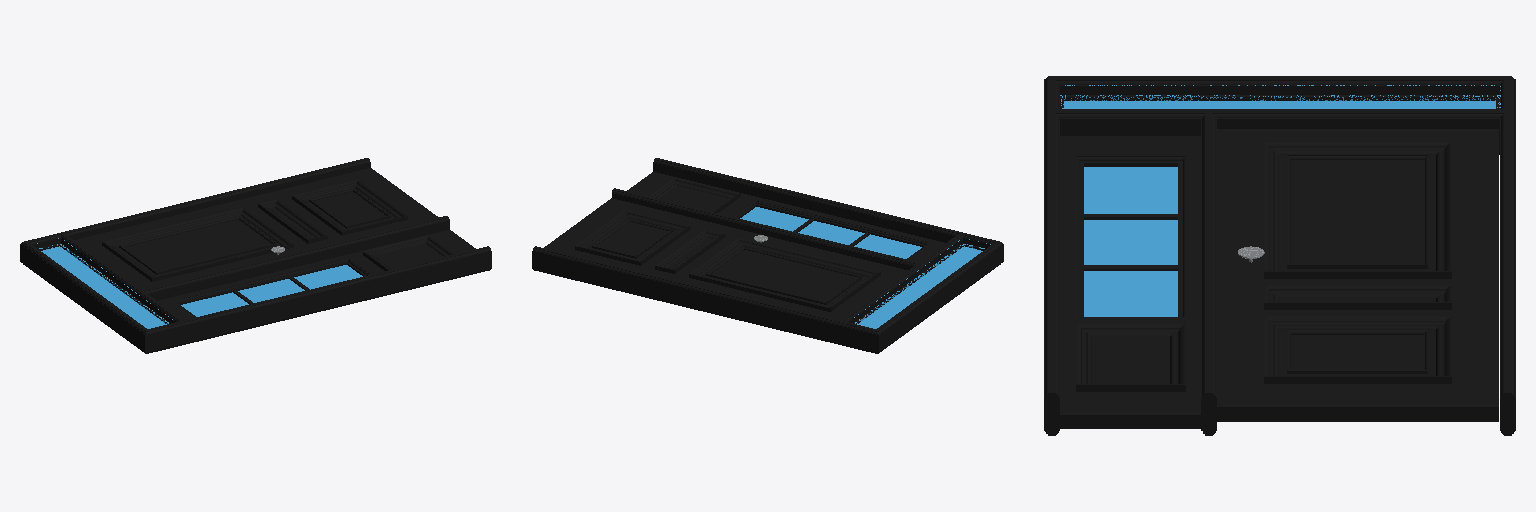
The robot description file, URDF, robot "right-pull-door":
<?xml version="1.0" ?>
<robot name="right-pull-door">
	<link name="base"/>
	<link name="link_0">
		<visual name="out-frame">
			<origin xyz="0 0 0"/>
			<geometry>
				<mesh filename="texture_dae/frame.dae" scale="0.7113522531511941 0.7113522531511941 0.7113522531511941"/>
			</geometry>
		</visual>
		<collision>
			<origin xyz="0 0 0"/>
			<geometry>
				<mesh filename="texture_dae/frame.dae" scale="0.7113522531511941 0.7113522531511941 0.7113522531511941"/>
			</geometry>
		</collision>
	</link>
	<joint name="joint_0" type="fixed">
		<origin rpy="1.570796326794897 0 -1.570796326794897" xyz="0 0 0"/>
		<child link="link_0"/>
		<parent link="base"/>
	</joint>
	<link name="link_1">
		<visual name="surf-board">
			<origin xyz="0.32473678126876204 -0.7608445362086281 0"/>
			<geometry>
				<mesh filename="texture_dae/board.dae" scale="0.7113522531511941 0.7113522531511941 0.7113522531511941"/>
			</geometry>
		</visual>
		<collision>
			<origin xyz="0.32473678126876204 -0.7608445362086281 0"/>
			<geometry>
				<mesh filename="texture_dae/board.dae" scale="0.7113522531511941 0.7113522531511941 0.7113522531511941"/>
			</geometry>
		</collision>
	</link>
	<joint name="joint_1" type="revolute">
		<origin xyz="-0.32473678126876204 0.7608445362086281 0"/>
		<axis xyz="0 -1 0"/>
		<child link="link_1"/>
		<parent link="link_0"/>
		<limit lower="0" upper="1.5079644737231006"/>
	</joint>
	<link name="link_2">
		<visual name="handle">
			<origin xyz="0 0 0"/>
			<geometry>
				<mesh filename="texture_dae/9962019.dae" scale="1.5242157059585568 1.5242157059585568 1.5242157059585568"/>
			</geometry>
		</visual>
		<collision>
			<origin xyz="0 0 0"/>
			<geometry>
				<mesh filename="texture_dae/9962019.dae" scale="1.5242157059585568 1.5242157059585568 1.5242157059585568"/>
			</geometry>
		</collision>
	</link>
	<joint name="joint_2" type="revolute">
		<origin xyz="0.5704604924205108 -0.7177411489811916 0.03652734304341412"/>
		<child link="link_2"/>
		<parent link="link_1"/>
		<axis xyz="0 0 1"/>
		<limit lower="0" upper="1.5079644737231006"/>
	</joint>
</robot>

--- Facts derived from the render (not from the file) ---
The picture shows the robot from 3 angles, left to right: view 1: azimuth 30°, elevation 25°; view 2: azimuth 150°, elevation 25°; view 3: azimuth 270°, elevation 25°; orthographic projection.
Robot: right-pull-door — 4 links, 3 joints (2 revolute, 1 fixed); root link base; default pose: all joints at 0.
Visible links, largest first — view 1: link_0, link_1; view 2: link_0, link_1; view 3: link_1, link_0.
Boxes of the visible links, x1,y1,x2,y2 form: link_0: [20, 158, 491, 353]; link_1: [75, 168, 438, 289]; link_0: [532, 158, 1003, 353]; link_1: [544, 198, 907, 319]; link_1: [1216, 129, 1498, 421]; link_0: [1044, 76, 1515, 435].
Bounding box of the posed robot: 1.73 × 1.08 × 0.1145 m (x, y, z).
3 mesh visuals loaded from 3 distinct referenced files (3 Collada DAE).
